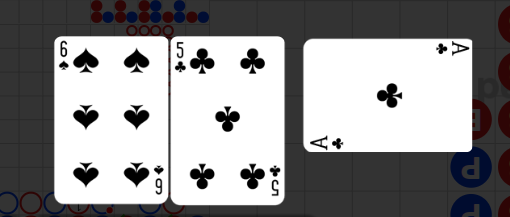5C: (267, 163, 282, 197)
6S: (58, 40, 71, 73)
AC: (432, 41, 470, 59)
